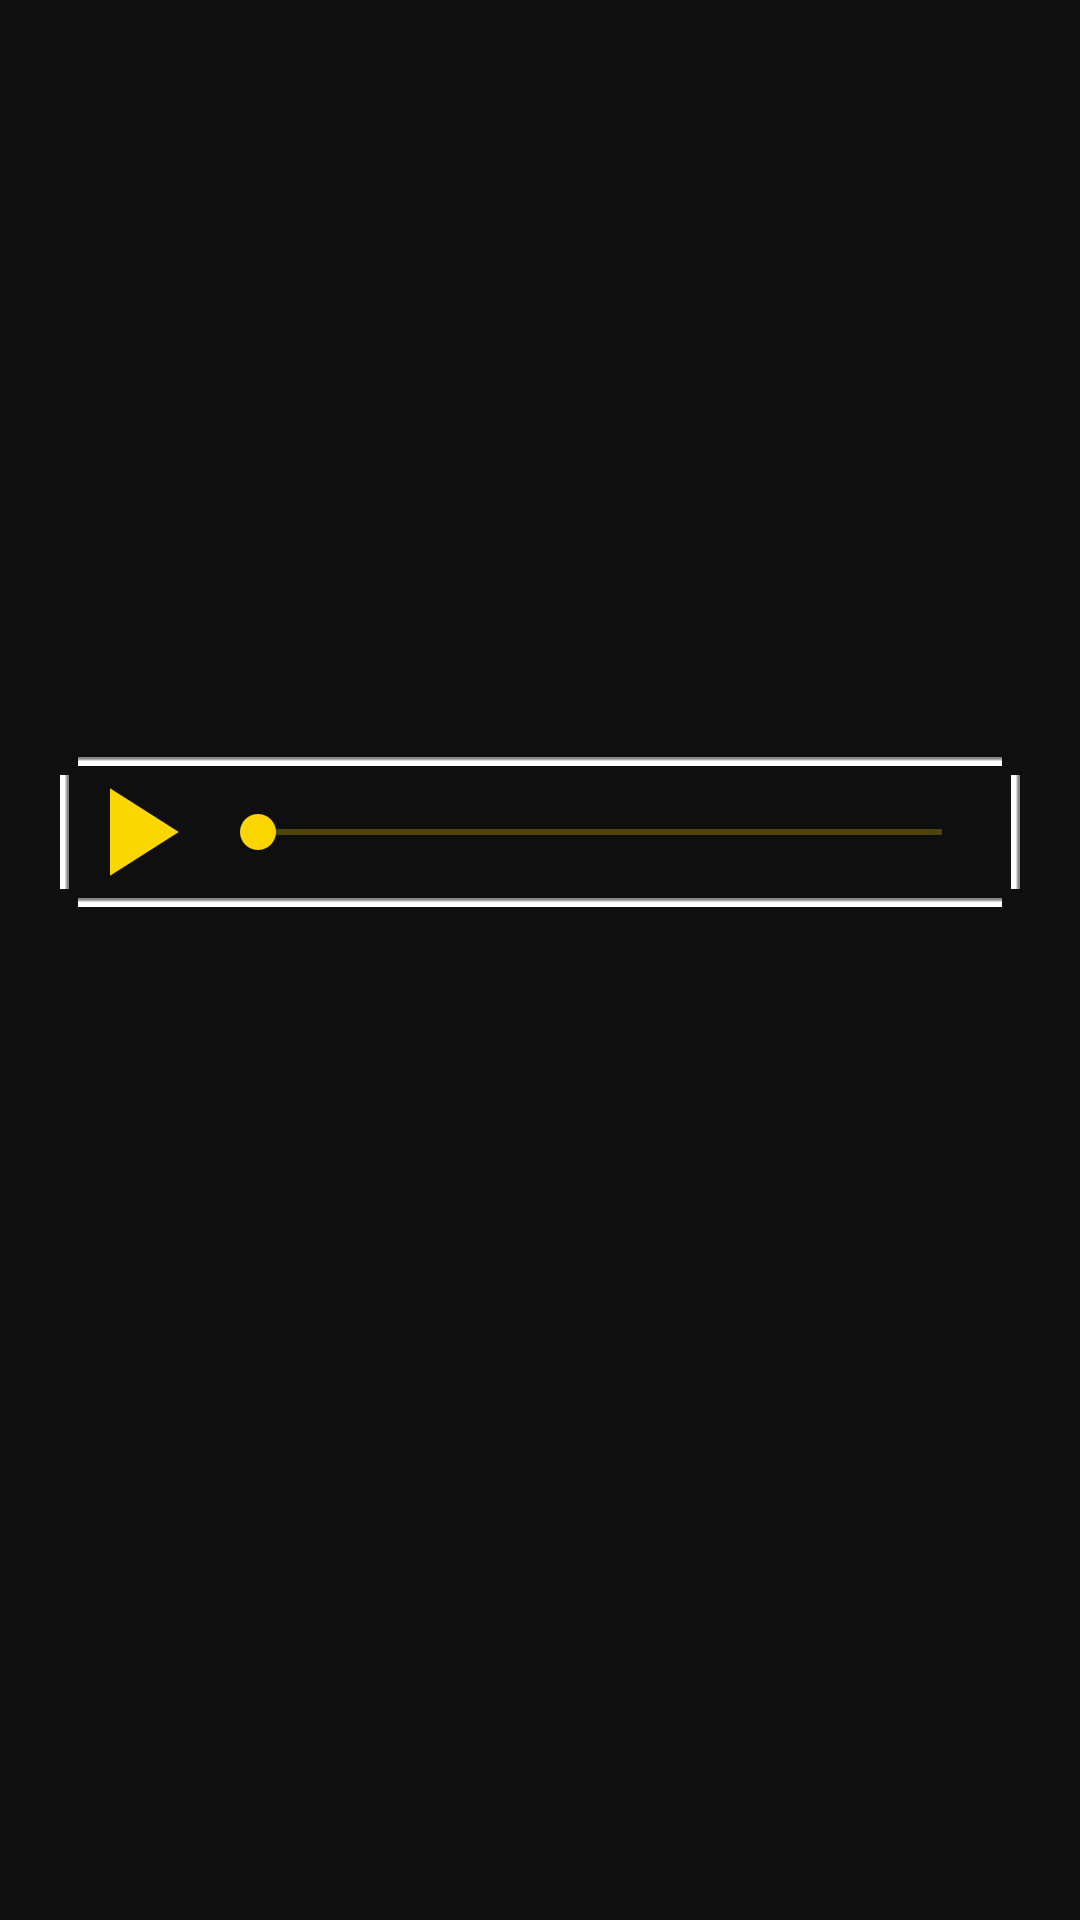

Named icons in this screenshot (1080px x 1920px) and their centers, (x,y):
play: (119,832)
